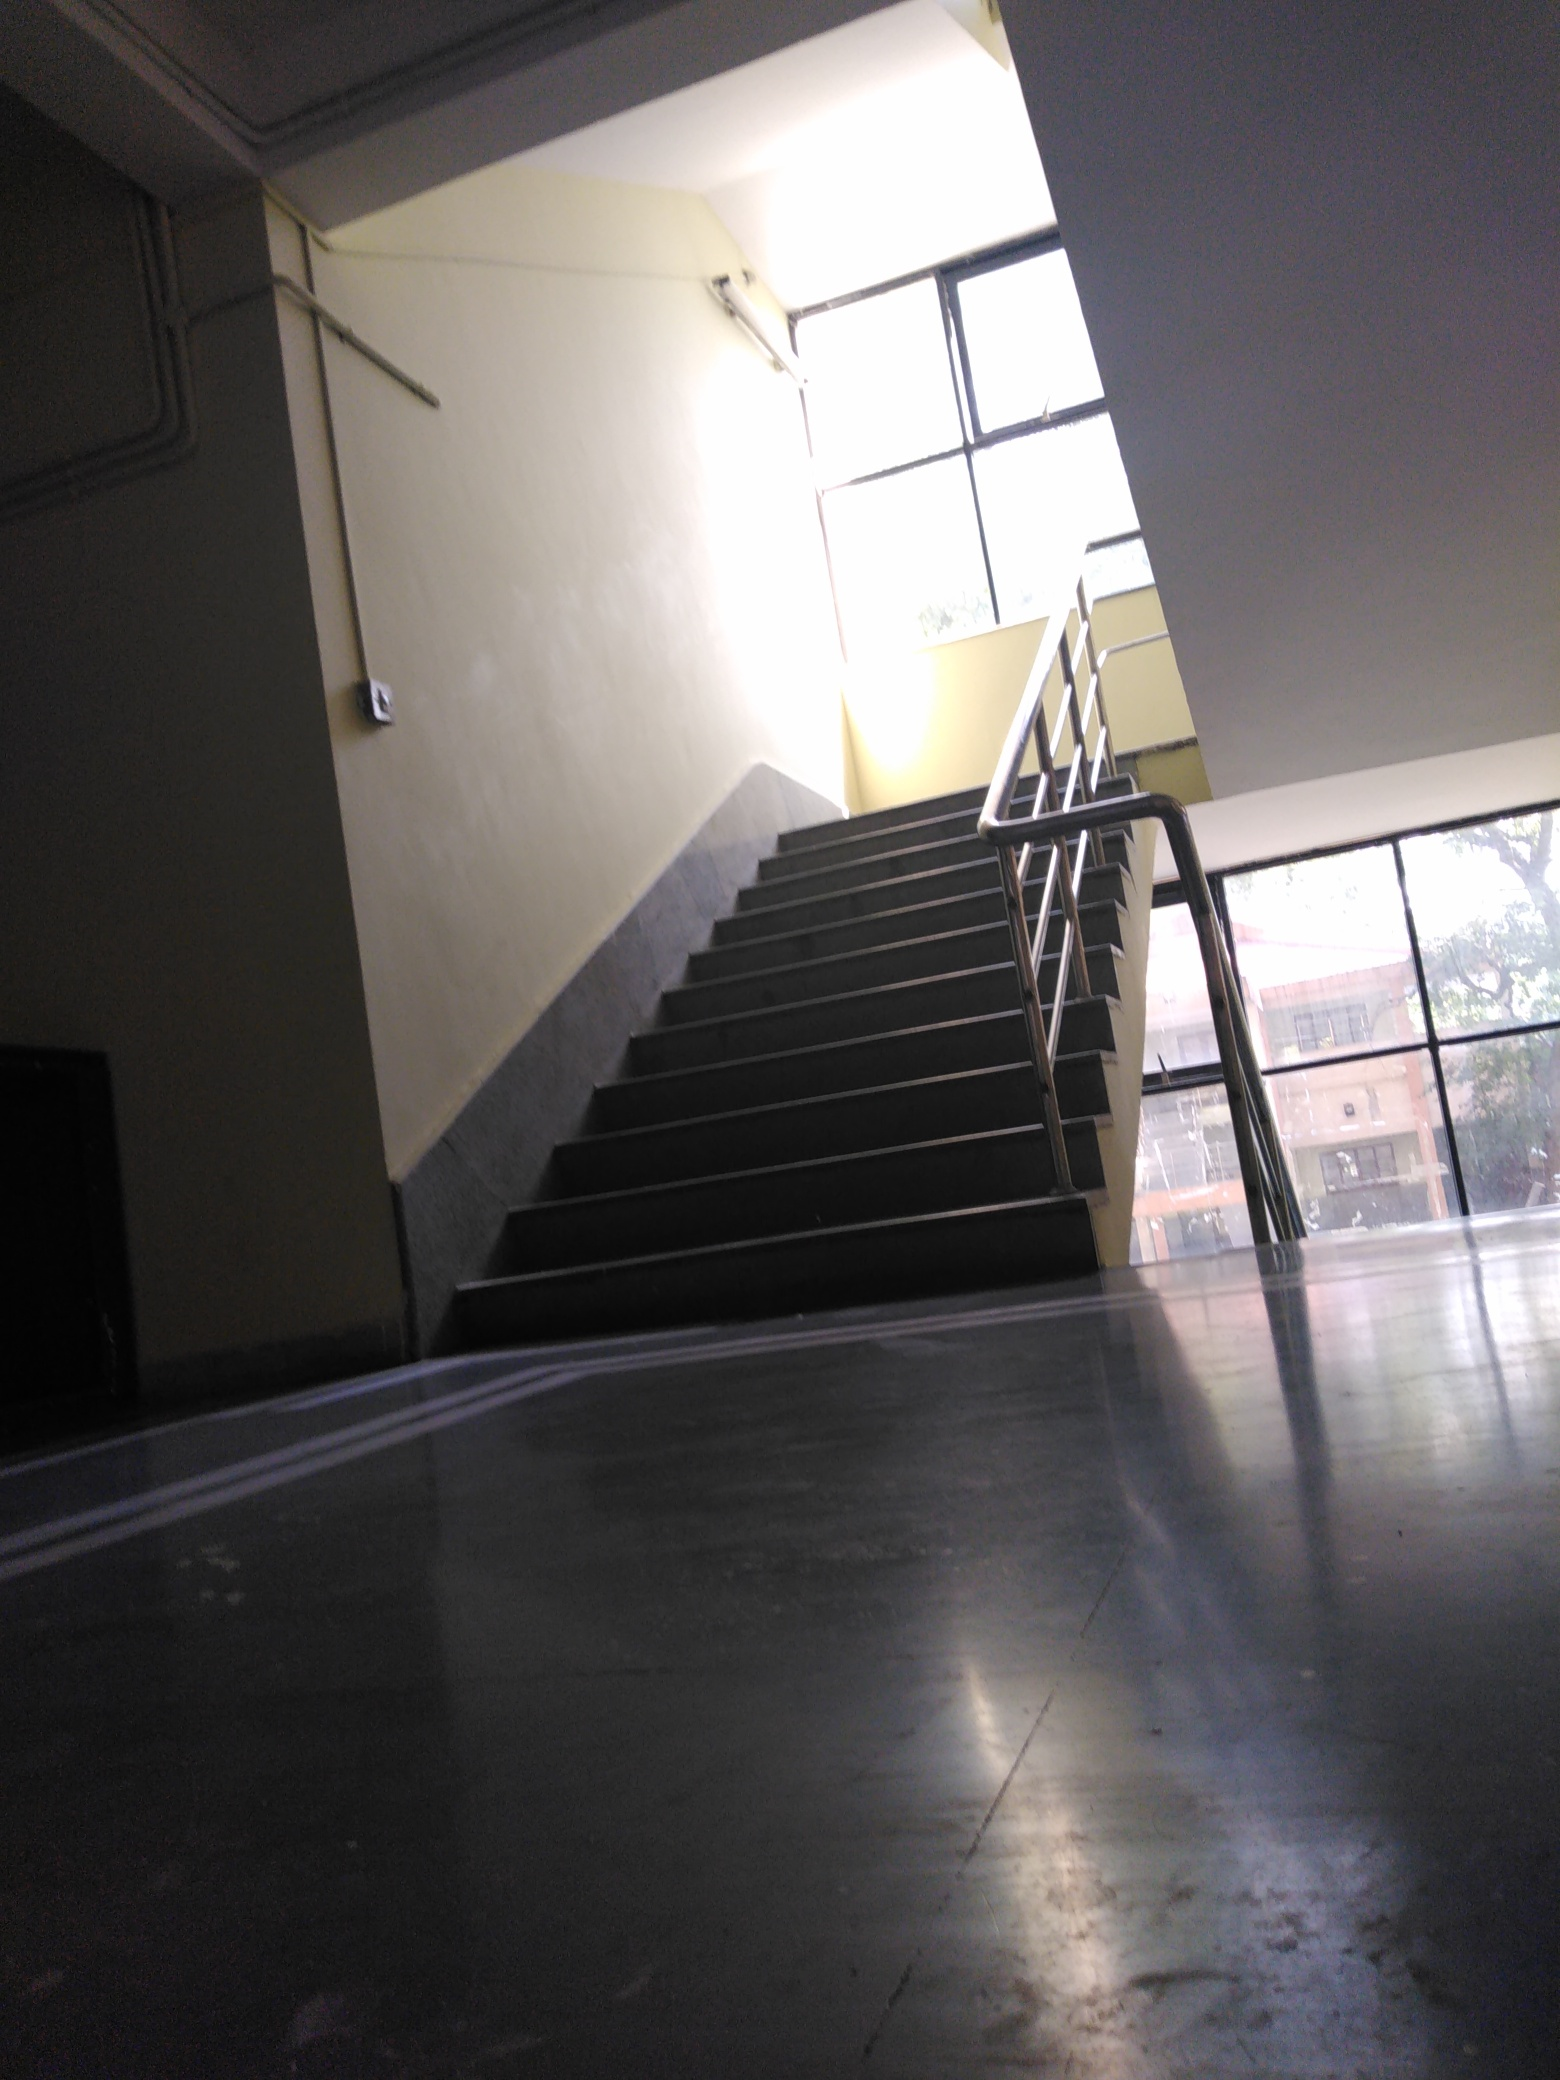stairs_up: (397, 750, 1132, 1332)
